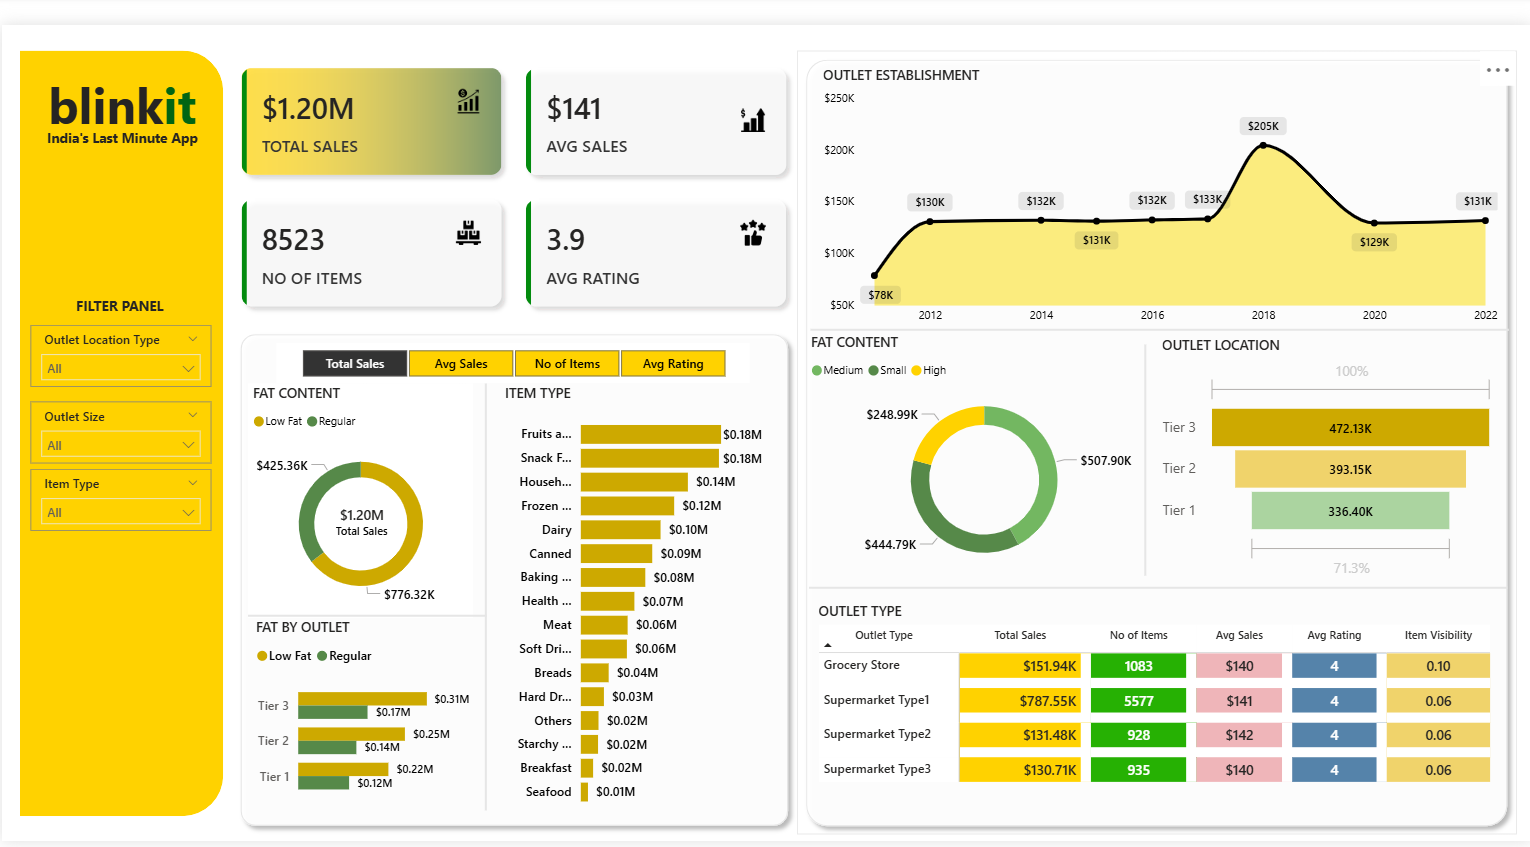

The dashboard page shown, as its layout file describes it:
{"tool":"powerbi","page":{"name":"Page 1","canvas":[1500,800],"ordinal":0},"visuals":[{"type":"shape","box":[17.7,24.4,199.3,750.7],"z":0},{"type":"textbox","box":[33.2,39.9,168.3,75.3],"z":1000},{"type":"textbox","box":[28.8,95.2,177.2,37.6],"z":2000},{"type":"cardVisual","fields":{"Data":["BlinkIT Grocery Data.Total Sales","BlinkIT Grocery Data.Avg Sales","BlinkIT Grocery Data.No of Items","BlinkIT Grocery Data.Avg Rating"]},"box":[217,24.5,569.8,269.8],"z":3000},{"type":"shape","box":[224.5,294.3,554.7,500],"z":4000},{"type":"slicer","fields":{"Values":["Metrics.Metrics"]},"box":[269.8,311.3,464.2,39.6],"z":5000},{"type":"donutChart","title":"FAT CONTENT","fields":{"Y":["BlinkIT Grocery Data.Total Sales"],"Category":["BlinkIT Grocery Data.Item Fat Content"]},"box":[241.5,350.9,220.8,230.2],"z":6000},{"type":"cardVisual","fields":{"Data":["BlinkIT Grocery Data.Total Sales"]},"box":[292.5,452.8,120.8,56.6],"z":7000},{"type":"clusteredBarChart","title":"FAT BY OUTLET","fields":{"Y":["BlinkIT Grocery Data.Total Sales"],"Category":["BlinkIT Grocery Data.Outlet Location Type"],"Series":["BlinkIT Grocery Data.Item Fat Content"]},"box":[243.4,581.1,218.9,188.7],"z":8000},{"type":"shape","box":[241.5,560.4,234,37.7],"z":9000},{"type":"shape","box":[447.2,350.9,54.7,418.9],"z":10000},{"type":"barChart","title":"ITEM TYPE","fields":{"Y":["BlinkIT Grocery Data.Total Sales"],"Category":["BlinkIT Grocery Data.Item Type"]},"box":[488.7,350.9,262.3,424.5],"z":11000},{"type":"shape","box":[779.2,24.5,705.7,769.8],"z":12000},{"type":"lineChart","title":"OUTLET ESTABLISHMENT","fields":{"Y":["BlinkIT Grocery Data.Total Sales"],"Category":["BlinkIT Grocery Data.Outlet Establishment Year"]},"box":[800,39.6,671.7,262.3],"z":13000},{"type":"shape","box":[792.5,294.3,684.9,9.4],"z":14000},{"type":"donutChart","title":"FAT CONTENT","fields":{"Y":["BlinkIT Grocery Data.Total Sales"],"Category":["BlinkIT Grocery Data.Outlet Size"]},"box":[788.7,301.9,349.1,243.4],"z":15000},{"type":"shape","box":[1105.7,313.2,30.2,226.4],"z":16000},{"type":"funnel","title":"OUTLET LOCATION","fields":{"Y":["Sum(BlinkIT Grocery Data.Sales)"],"Category":["BlinkIT Grocery Data.Outlet Location Type"]},"box":[1132.1,303.8,335.8,243.4],"z":17000},{"type":"shape","box":[790.6,547.2,684.9,9.4],"z":18000},{"type":"pivotTable","title":"OUTLET TYPE","fields":{"Rows":["BlinkIT Grocery Data.Outlet Type"],"Values":["BlinkIT Grocery Data.Total Sales","BlinkIT Grocery Data.No of Items","BlinkIT Grocery Data.Avg Sales","BlinkIT Grocery Data.Avg Rating","Avg(BlinkIT Grocery Data.Item Visibility)"]},"box":[796.2,564.2,683,186.8],"z":19000},{"type":"slicer","fields":{"Values":["BlinkIT Grocery Data.Outlet Location Type"]},"box":[28.3,294.3,177.4,60.4],"z":20000},{"type":"slicer","fields":{"Values":["BlinkIT Grocery Data.Outlet Size"]},"box":[28.3,369.8,177.4,60.4],"z":21000},{"type":"slicer","fields":{"Values":["BlinkIT Grocery Data.Item Type"]},"box":[28.3,435.8,177.4,60.4],"z":22000},{"type":"textbox","box":[67.9,260.4,113.2,34],"z":23000}]}

Visuals, with their boxes on the page's 1500x800 design canvas (x1, y1, x2, y2). These are canvas units, not pixel positions in the 1530x847 screenshot, which may show the page scaled, cropped or inside an application window:
shape: [left=18, top=24, right=217, bottom=775]
textbox: [left=33, top=40, right=202, bottom=115]
textbox: [left=29, top=95, right=206, bottom=133]
cardVisual - BlinkIT Grocery Data.Total Sales x BlinkIT Grocery Data.Avg Sales: [left=217, top=24, right=787, bottom=294]
shape: [left=224, top=294, right=779, bottom=794]
slicer - Metrics.Metrics: [left=270, top=311, right=734, bottom=351]
"FAT CONTENT" donutChart: [left=242, top=351, right=462, bottom=581]
cardVisual - BlinkIT Grocery Data.Total Sales: [left=292, top=453, right=413, bottom=509]
"FAT BY OUTLET" clusteredBarChart: [left=243, top=581, right=462, bottom=770]
shape: [left=242, top=560, right=476, bottom=598]
shape: [left=447, top=351, right=502, bottom=770]
"ITEM TYPE" barChart: [left=489, top=351, right=751, bottom=775]
shape: [left=779, top=24, right=1485, bottom=794]
"OUTLET ESTABLISHMENT" lineChart: [left=800, top=40, right=1472, bottom=302]
shape: [left=792, top=294, right=1477, bottom=304]
"FAT CONTENT" donutChart: [left=789, top=302, right=1138, bottom=545]
shape: [left=1106, top=313, right=1136, bottom=540]
"OUTLET LOCATION" funnel: [left=1132, top=304, right=1468, bottom=547]
shape: [left=791, top=547, right=1476, bottom=557]
"OUTLET TYPE" pivotTable: [left=796, top=564, right=1479, bottom=751]
slicer - BlinkIT Grocery Data.Outlet Location Type: [left=28, top=294, right=206, bottom=355]
slicer - BlinkIT Grocery Data.Outlet Size: [left=28, top=370, right=206, bottom=430]
slicer - BlinkIT Grocery Data.Item Type: [left=28, top=436, right=206, bottom=496]
textbox: [left=68, top=260, right=181, bottom=294]
